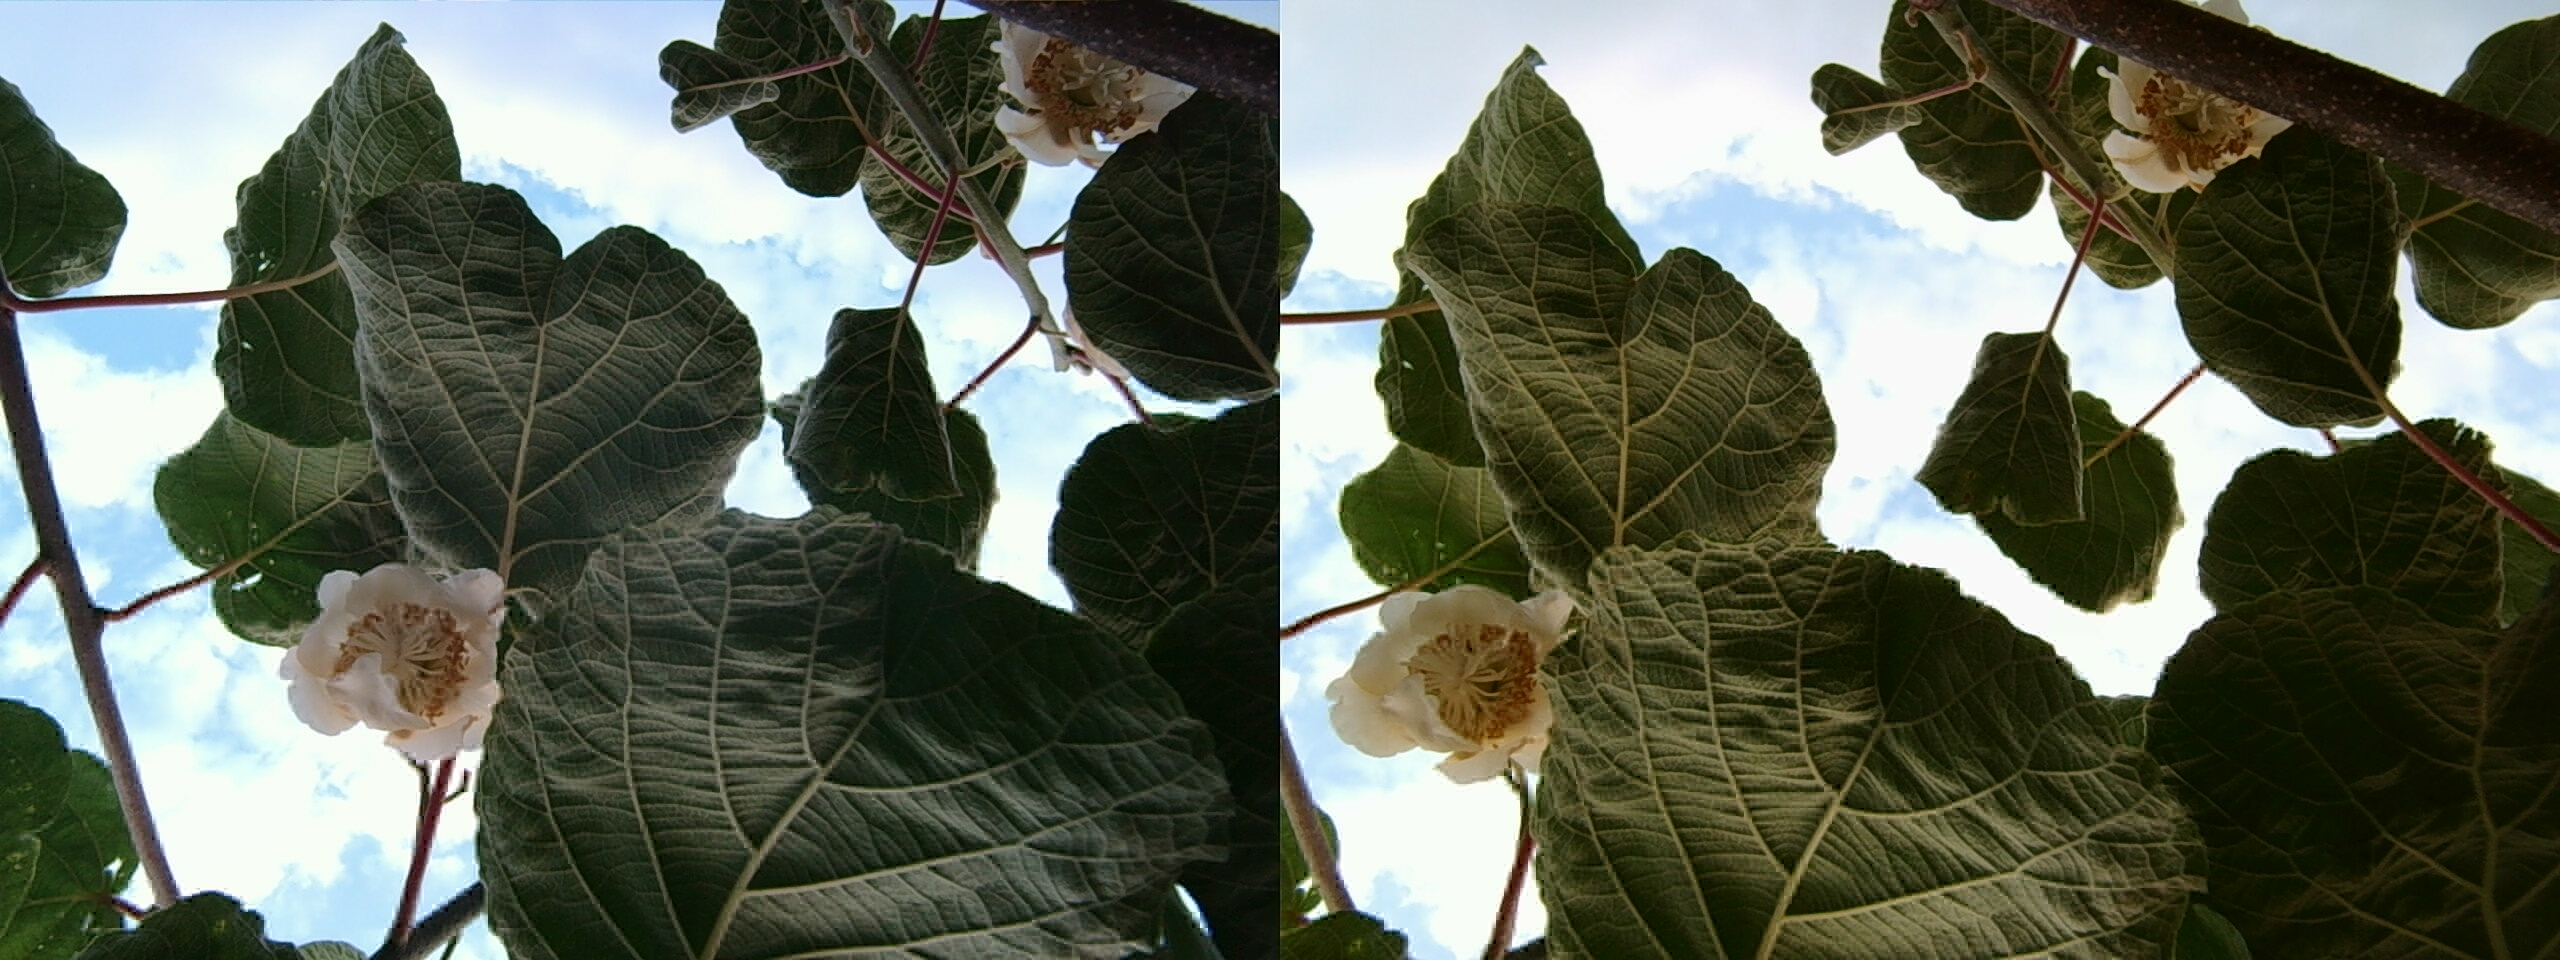flower: (1329, 568, 1562, 776), (287, 552, 504, 748), (994, 16, 1172, 157), (2104, 56, 2264, 180)
